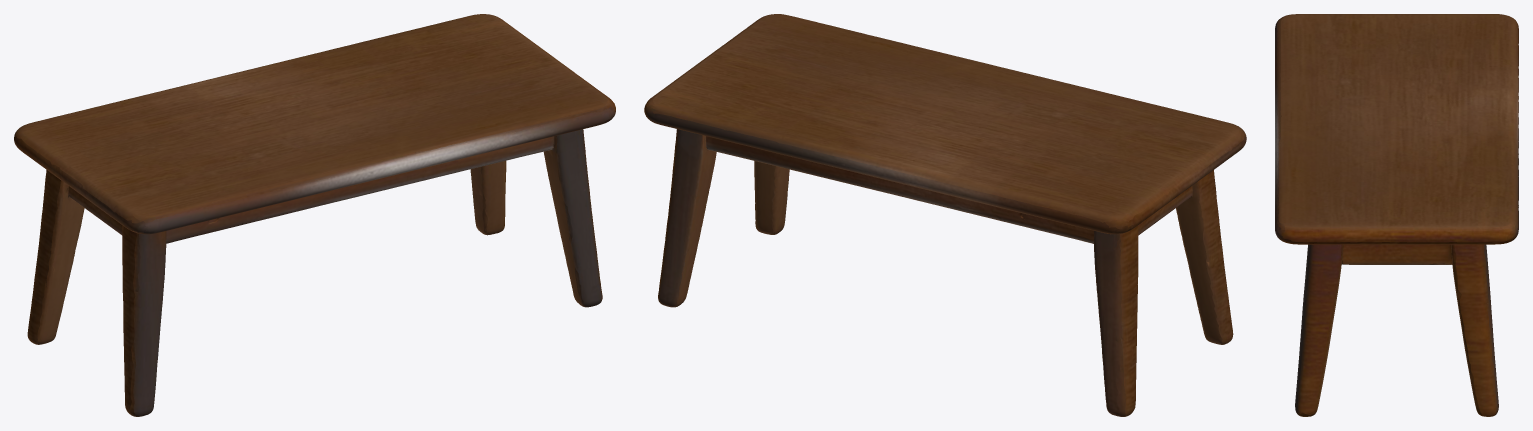
Rendered from L_COFFEE.industrial.glb.
3 renders of one model, left to right at view 1: azimuth 30°, elevation 25°; view 2: azimuth 150°, elevation 25°; view 3: azimuth 270°, elevation 25°, orthographic. The views are drawn at different scales.
Visible parts, largest first — view 1: geometry_0; view 2: geometry_0; view 3: geometry_0.
Boxes of the visible parts, x1,y1,x2,y2 form: geometry_0: [14, 14, 615, 416]; geometry_0: [644, 14, 1246, 416]; geometry_0: [1275, 14, 1518, 416].
Bounding box in the file's own units: 1.2 × 0.4917 × 0.5634.
Materials: 1 (1 with a texture image).
